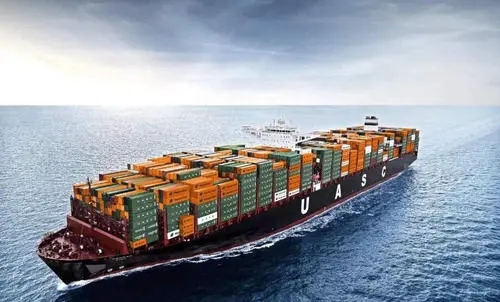Cargoship: (31, 99, 420, 286)
